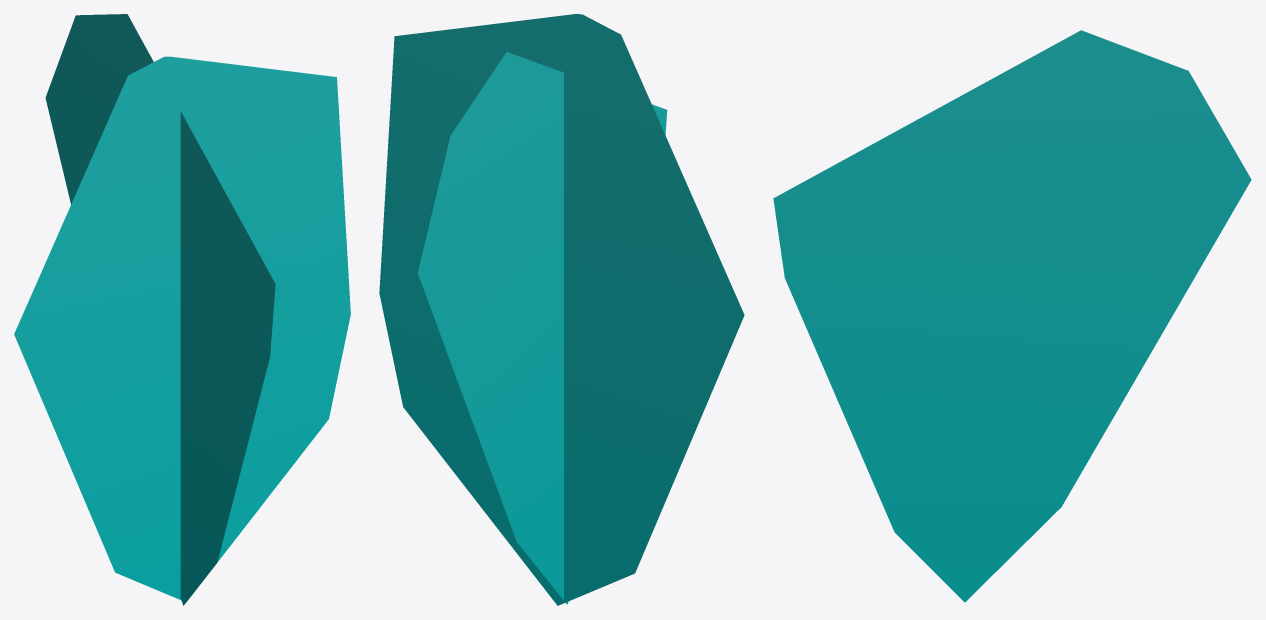
The model's file is European_Spindle_wk1ncbxja_Mid_wk1ncbxja_VarH_LOD3.fbx.
3 renders of one model, left to right at view 1: azimuth 30°, elevation 25°; view 2: azimuth 150°, elevation 25°; view 3: azimuth 270°, elevation 25°, orthographic. The views are drawn at different scales.
Parts seen in each view (by area): view 1: _iwwr_VarH_LOD4; view 2: _iwwr_VarH_LOD4; view 3: _iwwr_VarH_LOD4.
Part boxes in pixels (<box>): _iwwr_VarH_LOD4: <box>14,14,350,605</box>; _iwwr_VarH_LOD4: <box>379,14,744,605</box>; _iwwr_VarH_LOD4: <box>773,30,1251,602</box>.
Size of the model in its own units: 54.78 by 85.66 by 64.83.
